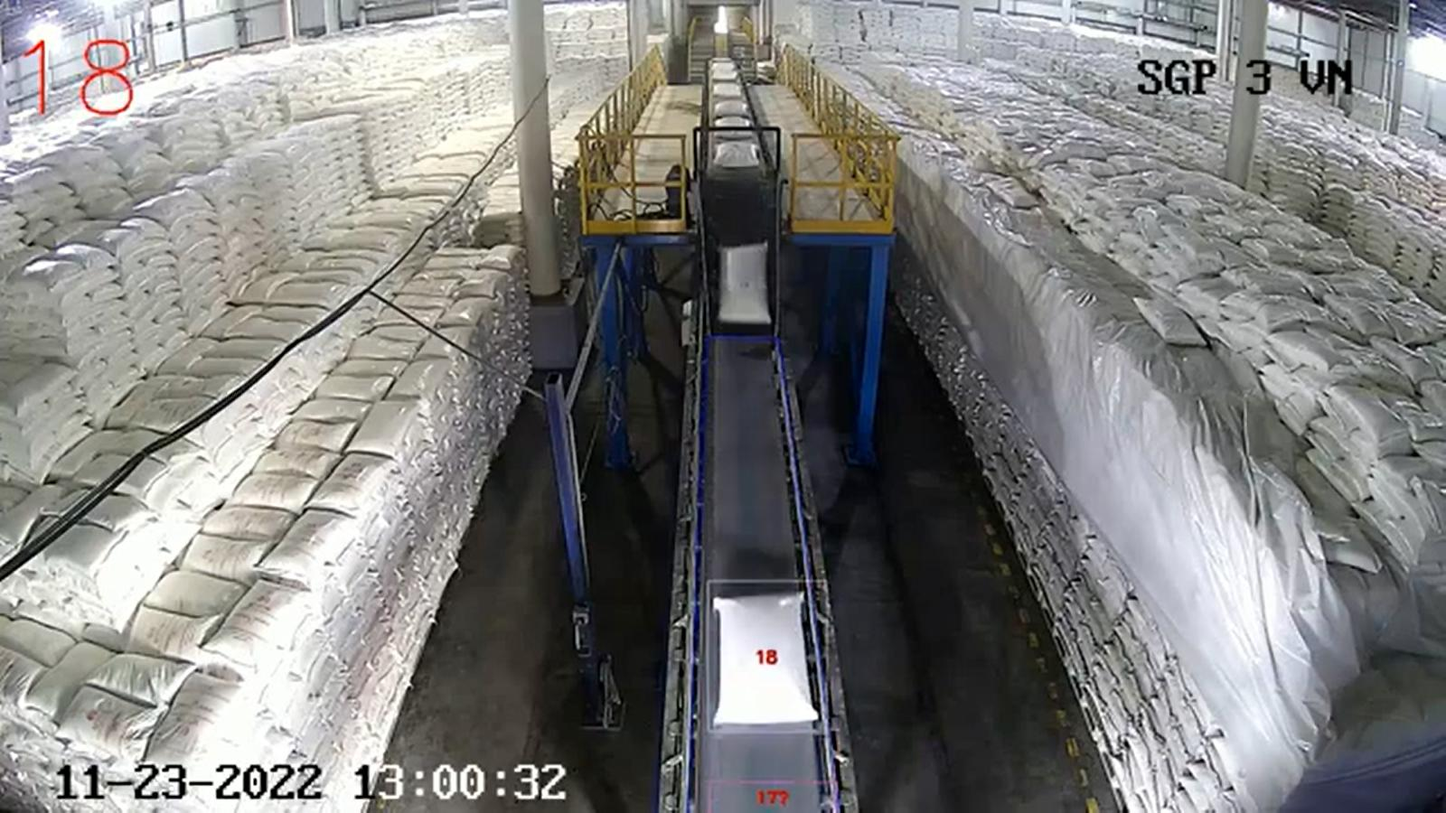rice-bag: (713, 593, 818, 726), (719, 243, 772, 325)
